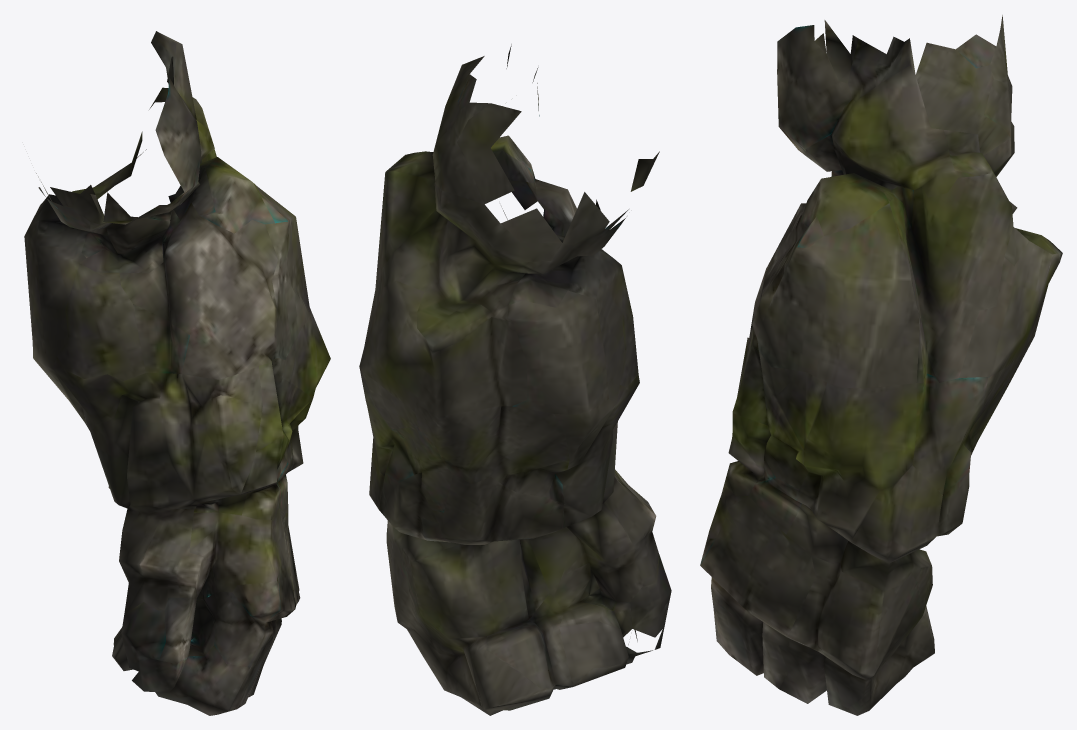
File: warden_arm_posx.glb
The picture shows the model from 3 angles, left to right: view 1: azimuth 30°, elevation 25°; view 2: azimuth 150°, elevation 25°; view 3: azimuth 270°, elevation 25°; orthographic projection. The views are drawn at different scales.
Parts seen in each view (by area): view 1: warden_arm_posx; view 2: warden_arm_posx; view 3: warden_arm_posx.
Part boxes in pixels (left/top/right/bottom): warden_arm_posx: left=24, top=31, right=330, bottom=715; warden_arm_posx: left=359, top=44, right=671, bottom=715; warden_arm_posx: left=700, top=15, right=1062, bottom=715.
Size of the model in its own units: 3.61 by 8.58 by 4.35.
1 material, 1 textured.
